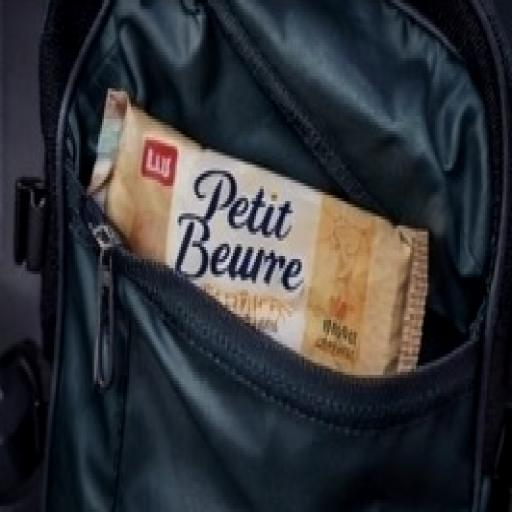petit_beurre: (56, 43, 452, 427)
